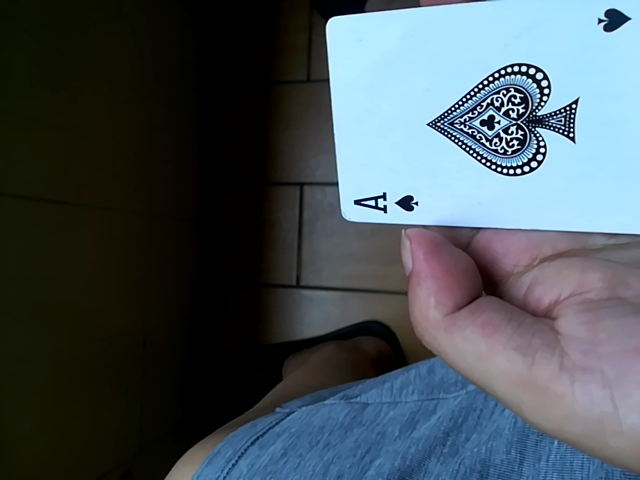ht a: (326, 0, 640, 236)
